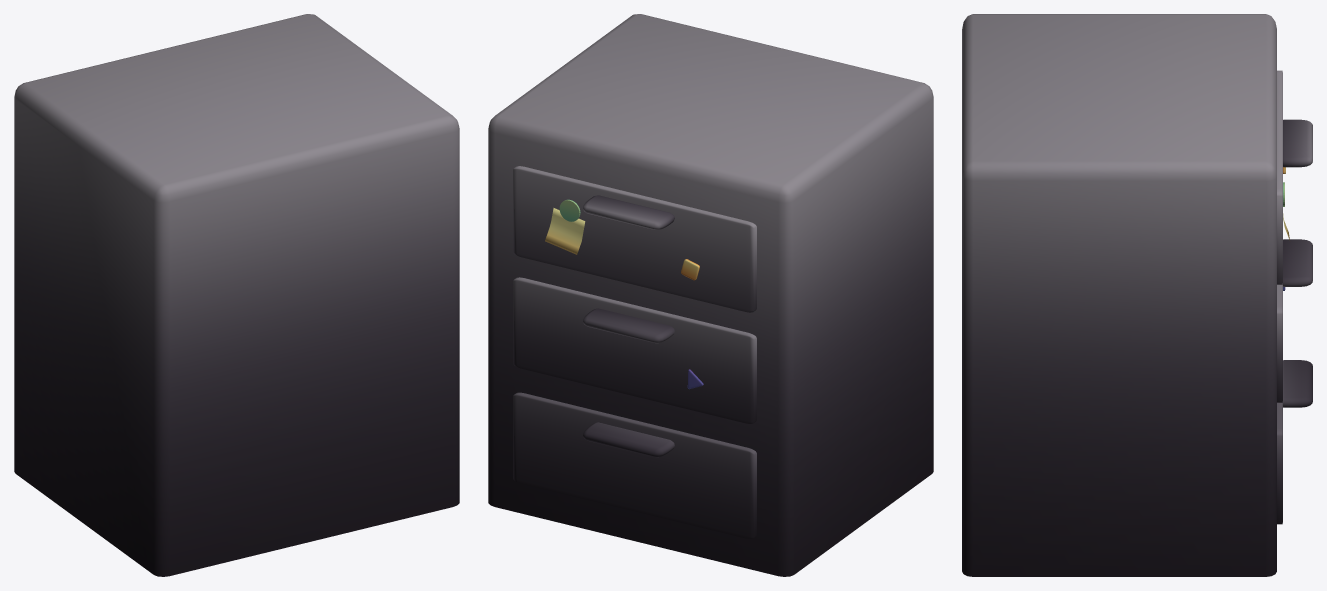
File: mesh_cabinet_w_magnets_001.fbx
3 views of the same model, side by side, from view 1: azimuth 30°, elevation 25°; view 2: azimuth 150°, elevation 25°; view 3: azimuth 270°, elevation 25° (orthographic). The views are drawn at different scales.
Visible parts, largest first — view 1: cabinet_w_magnets; view 2: cabinet_w_magnets; view 3: cabinet_w_magnets.
Part boxes in pixels (x1=…): cabinet_w_magnets: x1=14, y1=14, x2=459, y2=576; cabinet_w_magnets: x1=488, y1=14, x2=933, y2=576; cabinet_w_magnets: x1=962, y1=14, x2=1312, y2=576.
Size of the model in its own units: 114 by 138 by 107.
